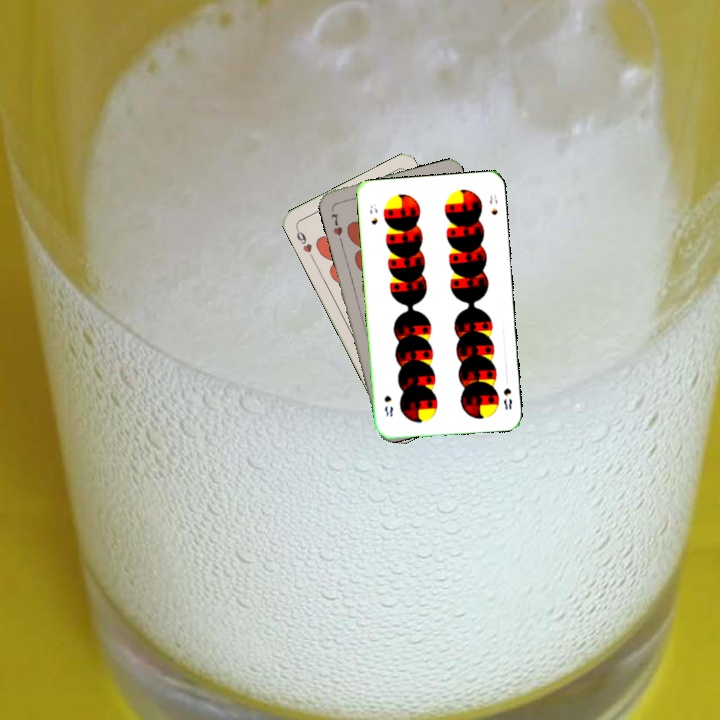H7: (327, 209, 345, 238)
H9: (292, 223, 315, 255)
S8: (365, 200, 380, 227), (500, 384, 514, 412)
